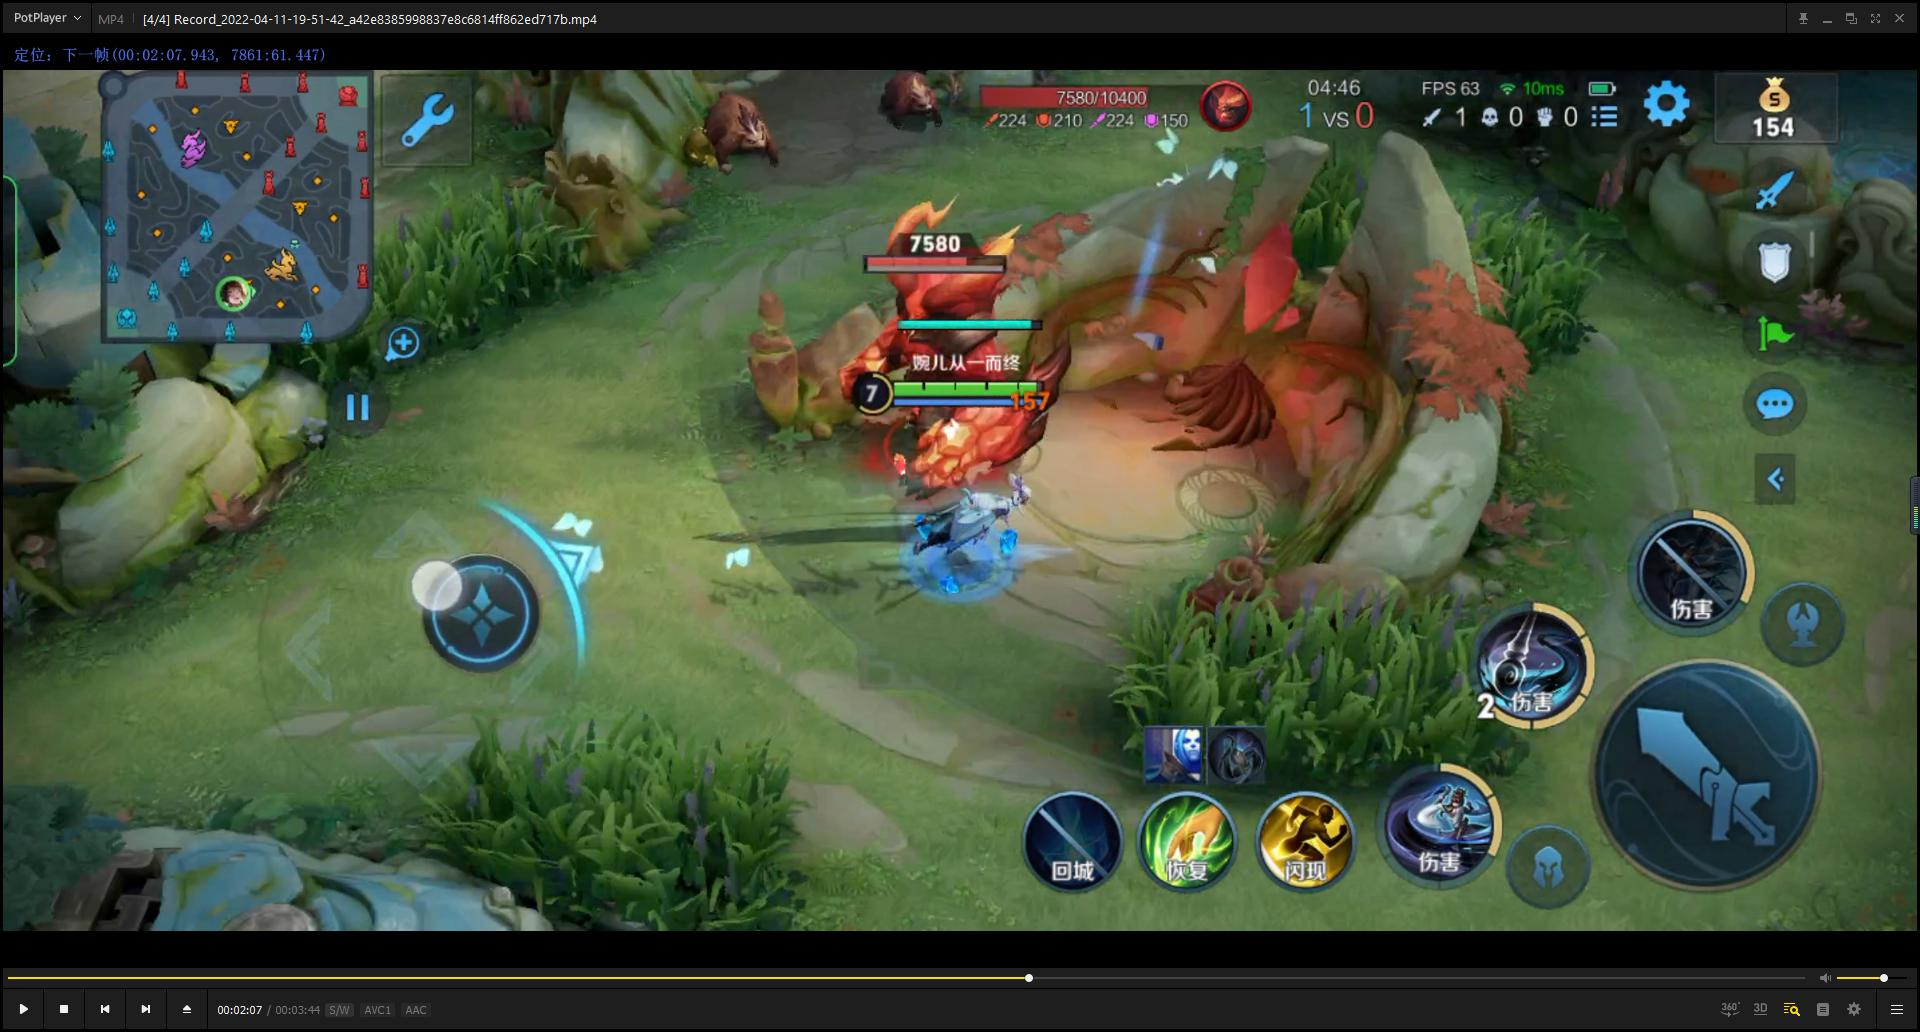Buff: (809, 221, 1097, 527)
Hero: (888, 472, 1072, 604)
Pig: (679, 75, 815, 193), (856, 71, 954, 137)
